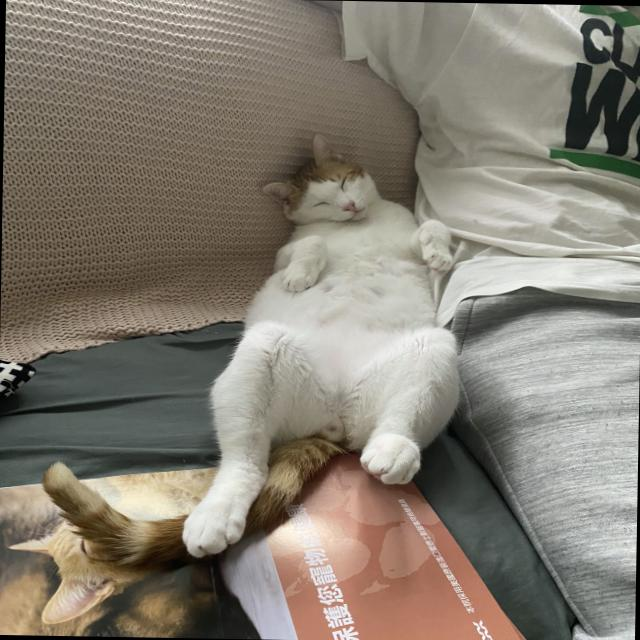cat1: (45, 125, 459, 575)
